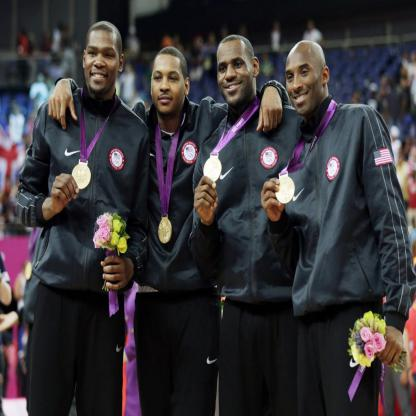face: (286, 43, 324, 116), (218, 36, 254, 106), (86, 27, 121, 94), (152, 51, 187, 113)
